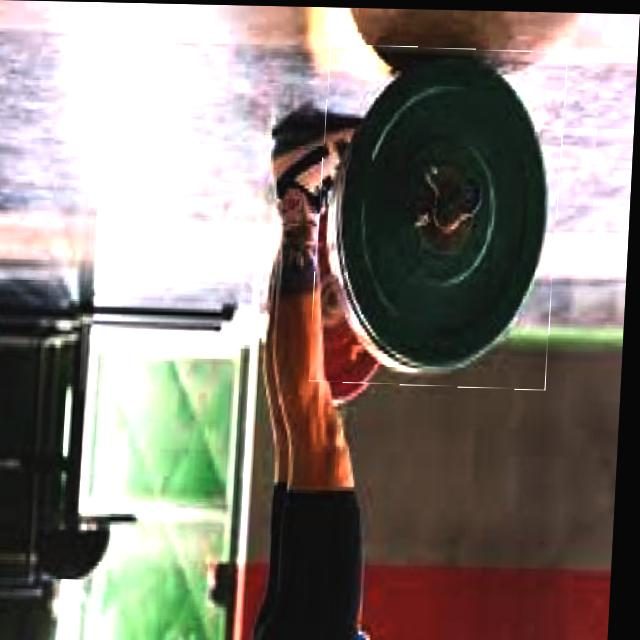barbell: (314, 45, 568, 388)
